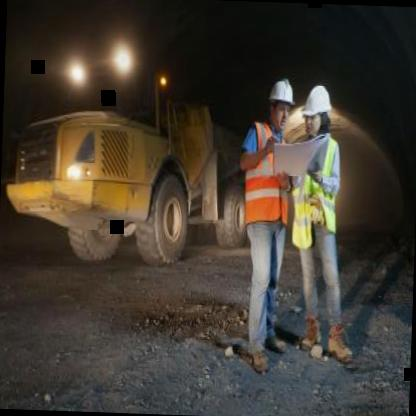helmet: (302, 81, 333, 142), (265, 75, 298, 132)
